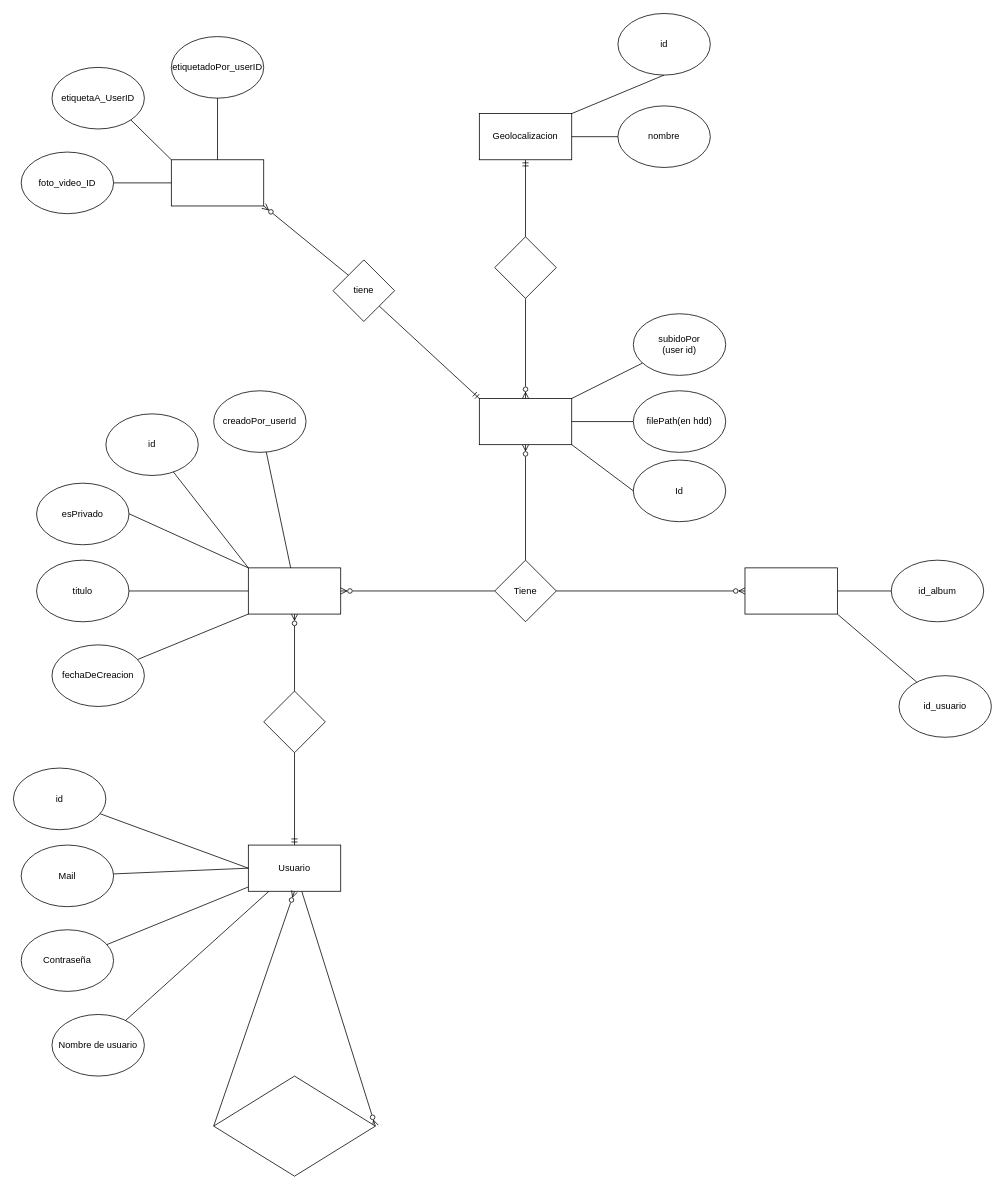
Some shapes in this 1005 by 1190 pixel diagram are drawn without their labels. The shapes that lost their labels are listed below. From the top down, each one's centre as x and y in pixels, then its label:
(217,182): Etiqueta
(525,267): localizada en
(525,421): Foto / video
(294,590): Album
(790,590): Colaborador
(294,721): Gestiona
(294,1125): Sigue
